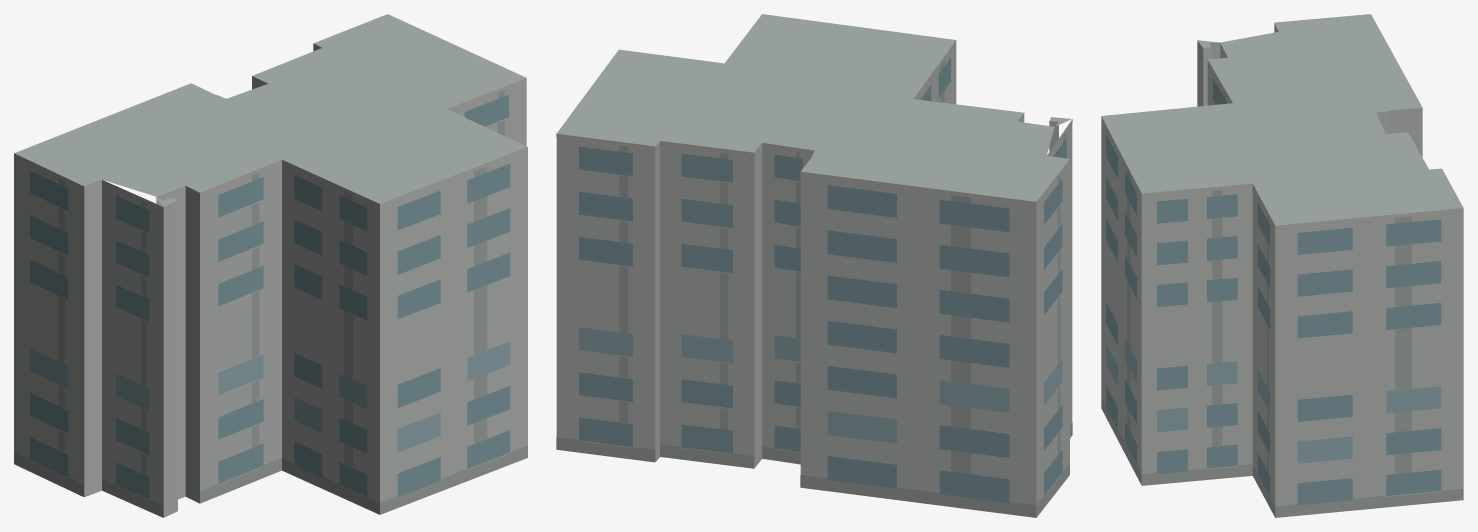
File: survey-upis-32949978.glb
The picture shows the model from 3 angles, left to right: view 1: azimuth 30°, elevation 25°; view 2: azimuth 150°, elevation 25°; view 3: azimuth 270°, elevation 25°; orthographic projection. The views are drawn at different scales.
Parts seen in each view (by area): view 1: survey-upis-32949978.tmp; view 2: survey-upis-32949978.tmp; view 3: survey-upis-32949978.tmp.
Part boxes in pixels (x1,y1,x2,y2): survey-upis-32949978.tmp: [14, 14, 527, 517]; survey-upis-32949978.tmp: [556, 14, 1072, 517]; survey-upis-32949978.tmp: [1101, 14, 1463, 517].
Size of the model in its own units: 31.09 by 20 by 22.49.
